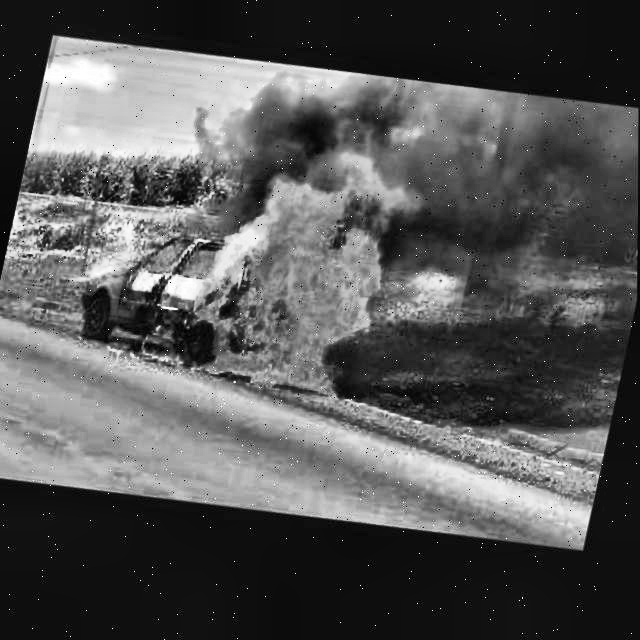Fire: (101, 107, 429, 427)
Smoke: (408, 76, 639, 307), (197, 44, 434, 215)
